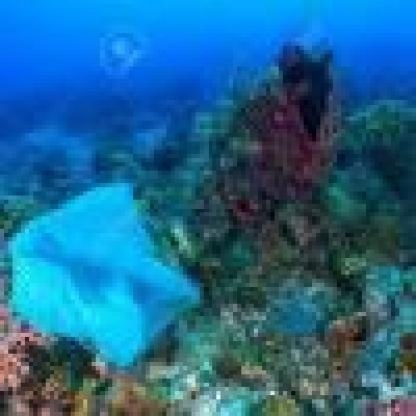pbag: (4, 179, 204, 370)
